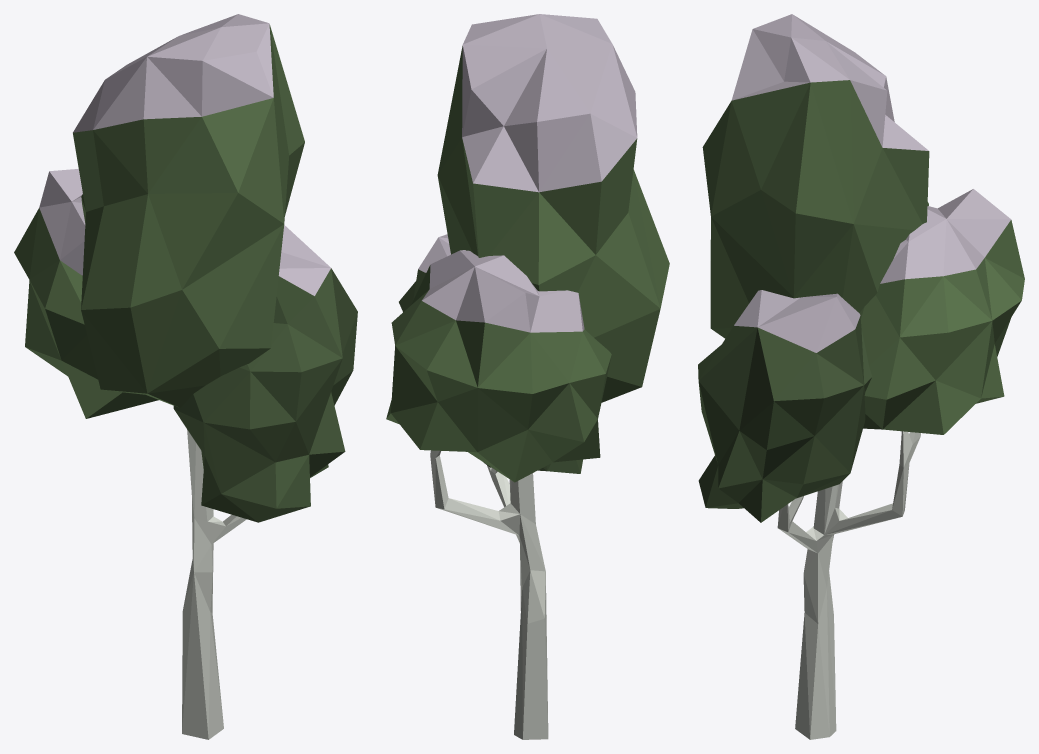
Rendered from BirchTree_Snow_3.lod2.glb.
3 views of the same model, side by side, from view 1: azimuth 30°, elevation 25°; view 2: azimuth 150°, elevation 25°; view 3: azimuth 270°, elevation 25° (orthographic). The views are drawn at different scales.
Visible parts, largest first — view 1: BirchTree_Snow_3; view 2: BirchTree_Snow_3; view 3: BirchTree_Snow_3.
Boxes of the visible parts, left/top/right/bottom form: BirchTree_Snow_3: left=14, top=14, right=357, bottom=739; BirchTree_Snow_3: left=386, top=14, right=669, bottom=739; BirchTree_Snow_3: left=698, top=14, right=1024, bottom=739.
Size of the model in its own units: 1.58 by 4.15 by 1.76.
